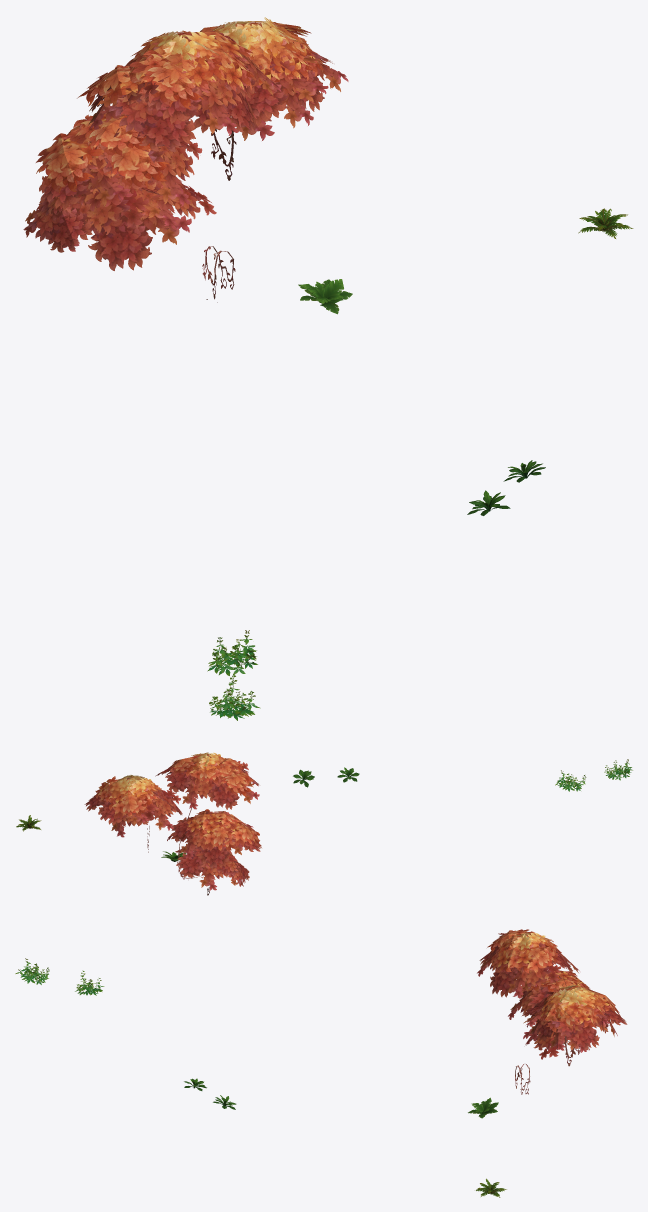
The model's file is zhibei5_1.FBX.
3 renders of one model, top to bottom at view 1: azimuth 30°, elevation 25°; view 2: azimuth 150°, elevation 25°; view 3: azimuth 270°, elevation 25°, orthographic. The views are drawn at different scales.
Parts seen in each view (by area): view 1: zhibei5_1; view 2: zhibei5_1; view 3: zhibei5_1.
Boxes of the visible parts, left/top/right/bottom form: zhibei5_1: left=23, top=17, right=633, bottom=720; zhibei5_1: left=16, top=752, right=632, bottom=895; zhibei5_1: left=15, top=929, right=627, bottom=1197.
Size of the model in its own units: 4329 by 1374 by 4968.
